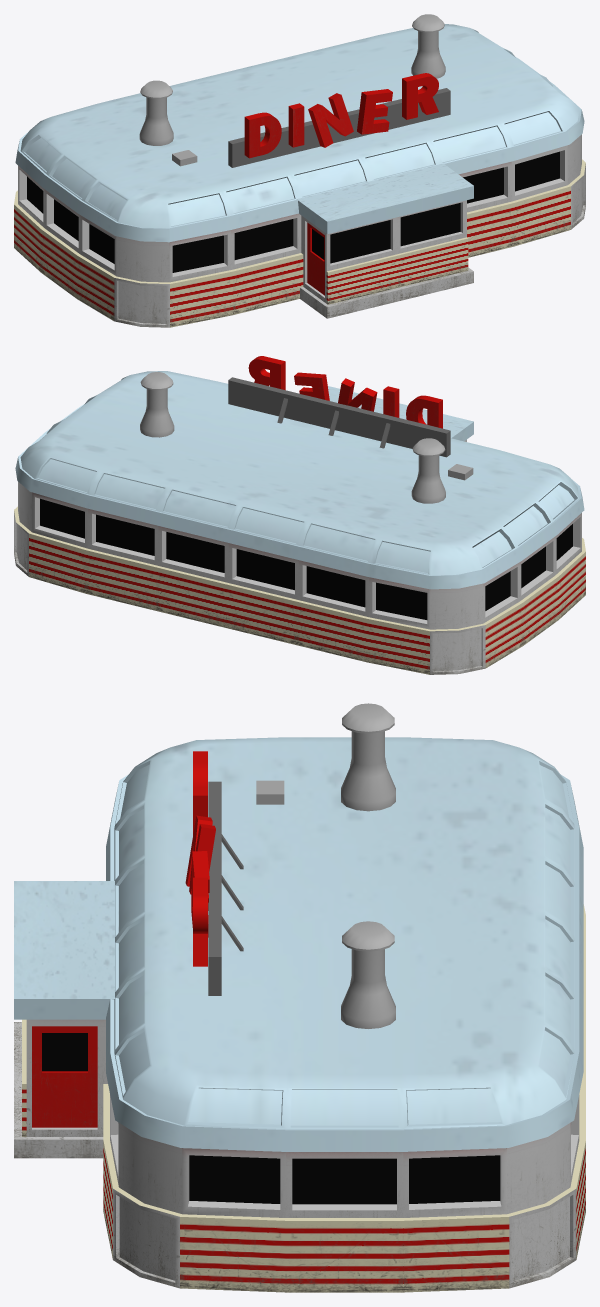
The model's file is fbx_hamburger_exterior.fbx.
3 views of the same model, one above another, from view 1: azimuth 30°, elevation 25°; view 2: azimuth 150°, elevation 25°; view 3: azimuth 270°, elevation 25° (orthographic). The views are drawn at different scales.
Visible parts, largest first — view 1: fbx_hamburger_exterior; view 2: fbx_hamburger_exterior; view 3: fbx_hamburger_exterior.
Boxes of the visible parts, x1,y1,x2,y2 form: fbx_hamburger_exterior: (14,14,585,327); fbx_hamburger_exterior: (14,356,585,674); fbx_hamburger_exterior: (14,703,585,1292).
Bounding box in the file's own units: 18.82 × 6.36 × 11.78.
2 materials, 1 textured.
